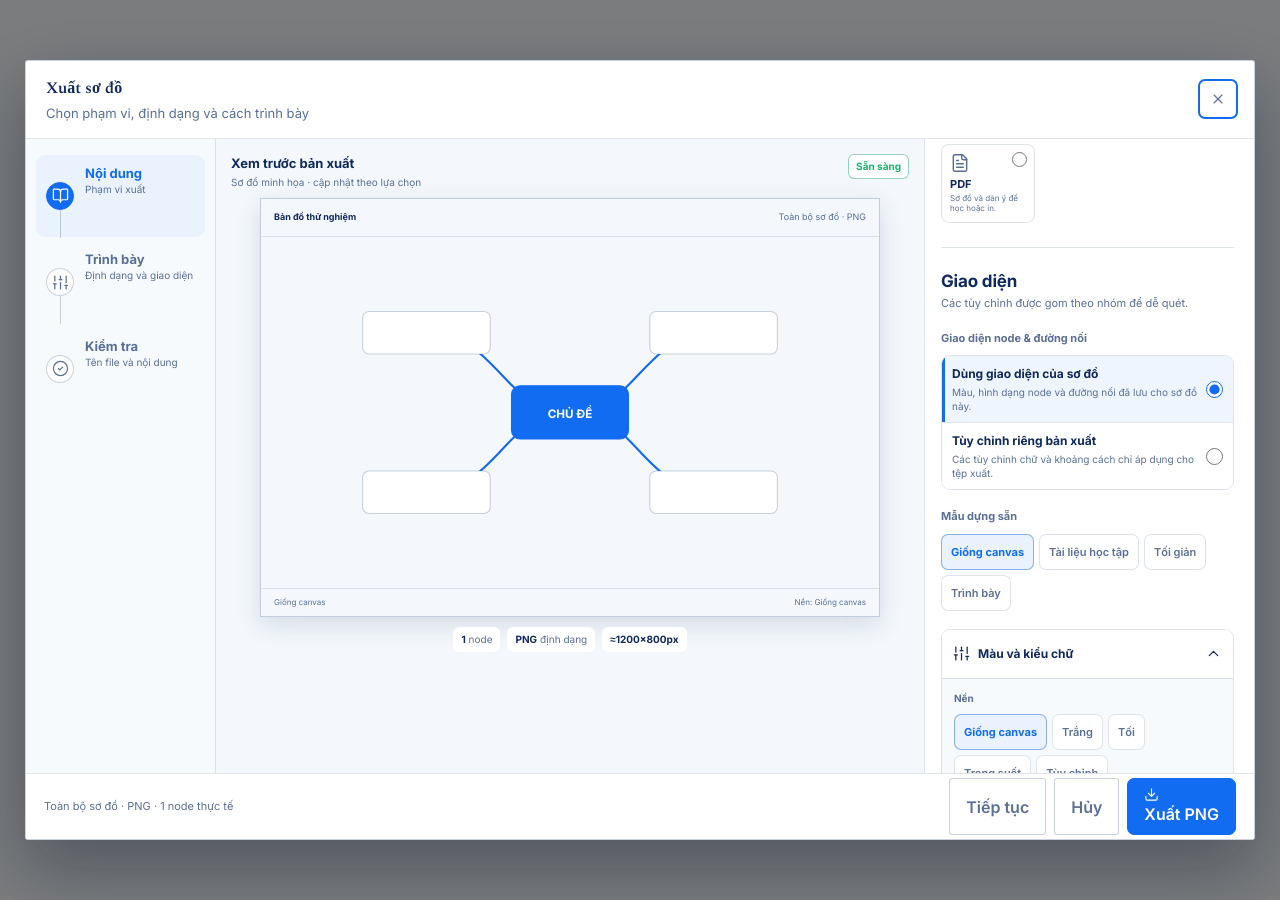
it: Export Studio appearance override — default and switching › switching to custom reveals the node-role editor and the 'Áp dụng cho sơ đồ' action
(page scrolled)
Step 1. Click the radio button named "mm-appearance-mode" → (1214, 456), box [1206,448,1223,465]
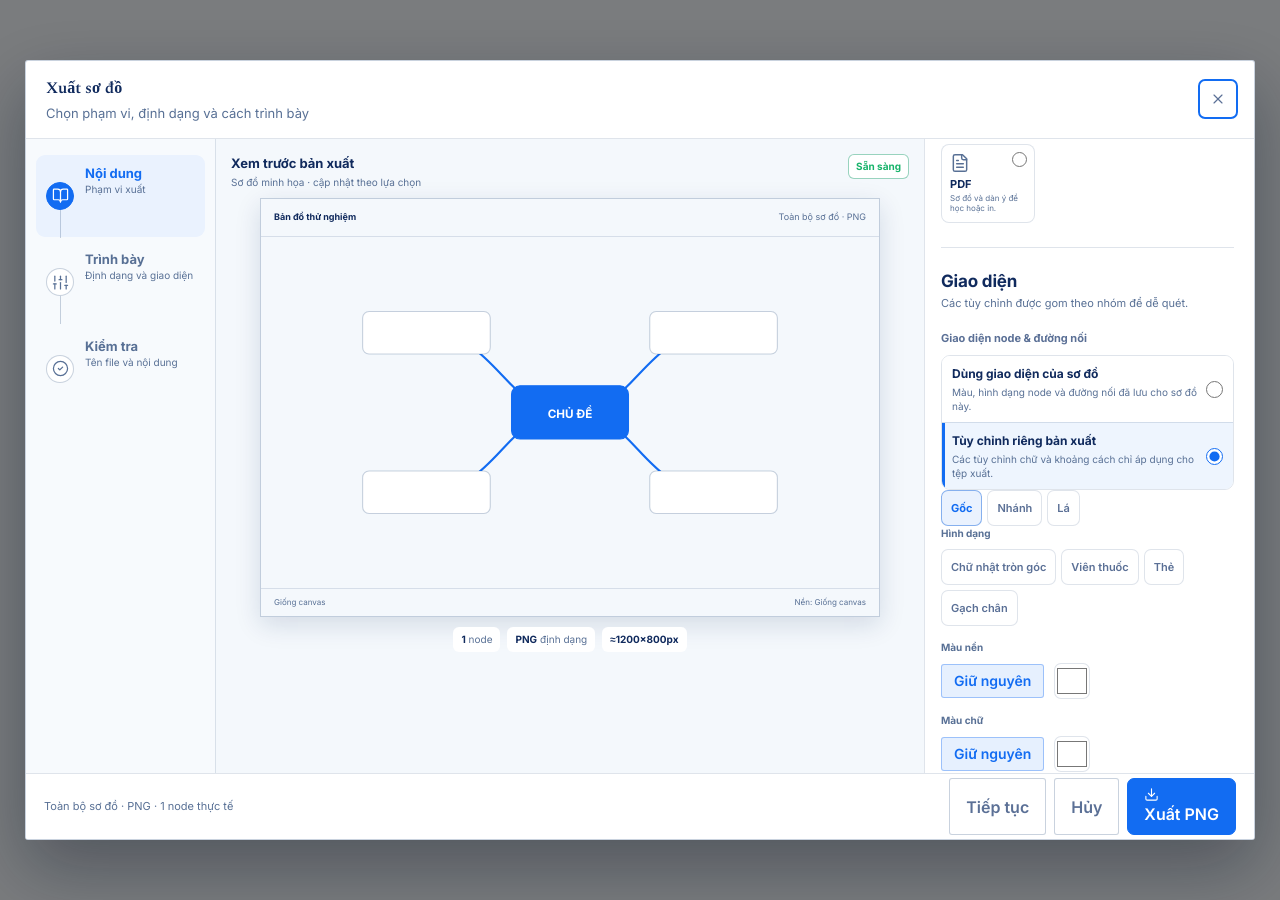
Expected: the colour field named "Màu nền" is shown, [1054,663,1090,699]
